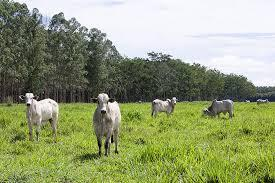cow: (90, 92, 122, 156), (20, 92, 59, 141), (203, 99, 235, 121), (152, 96, 177, 118)
